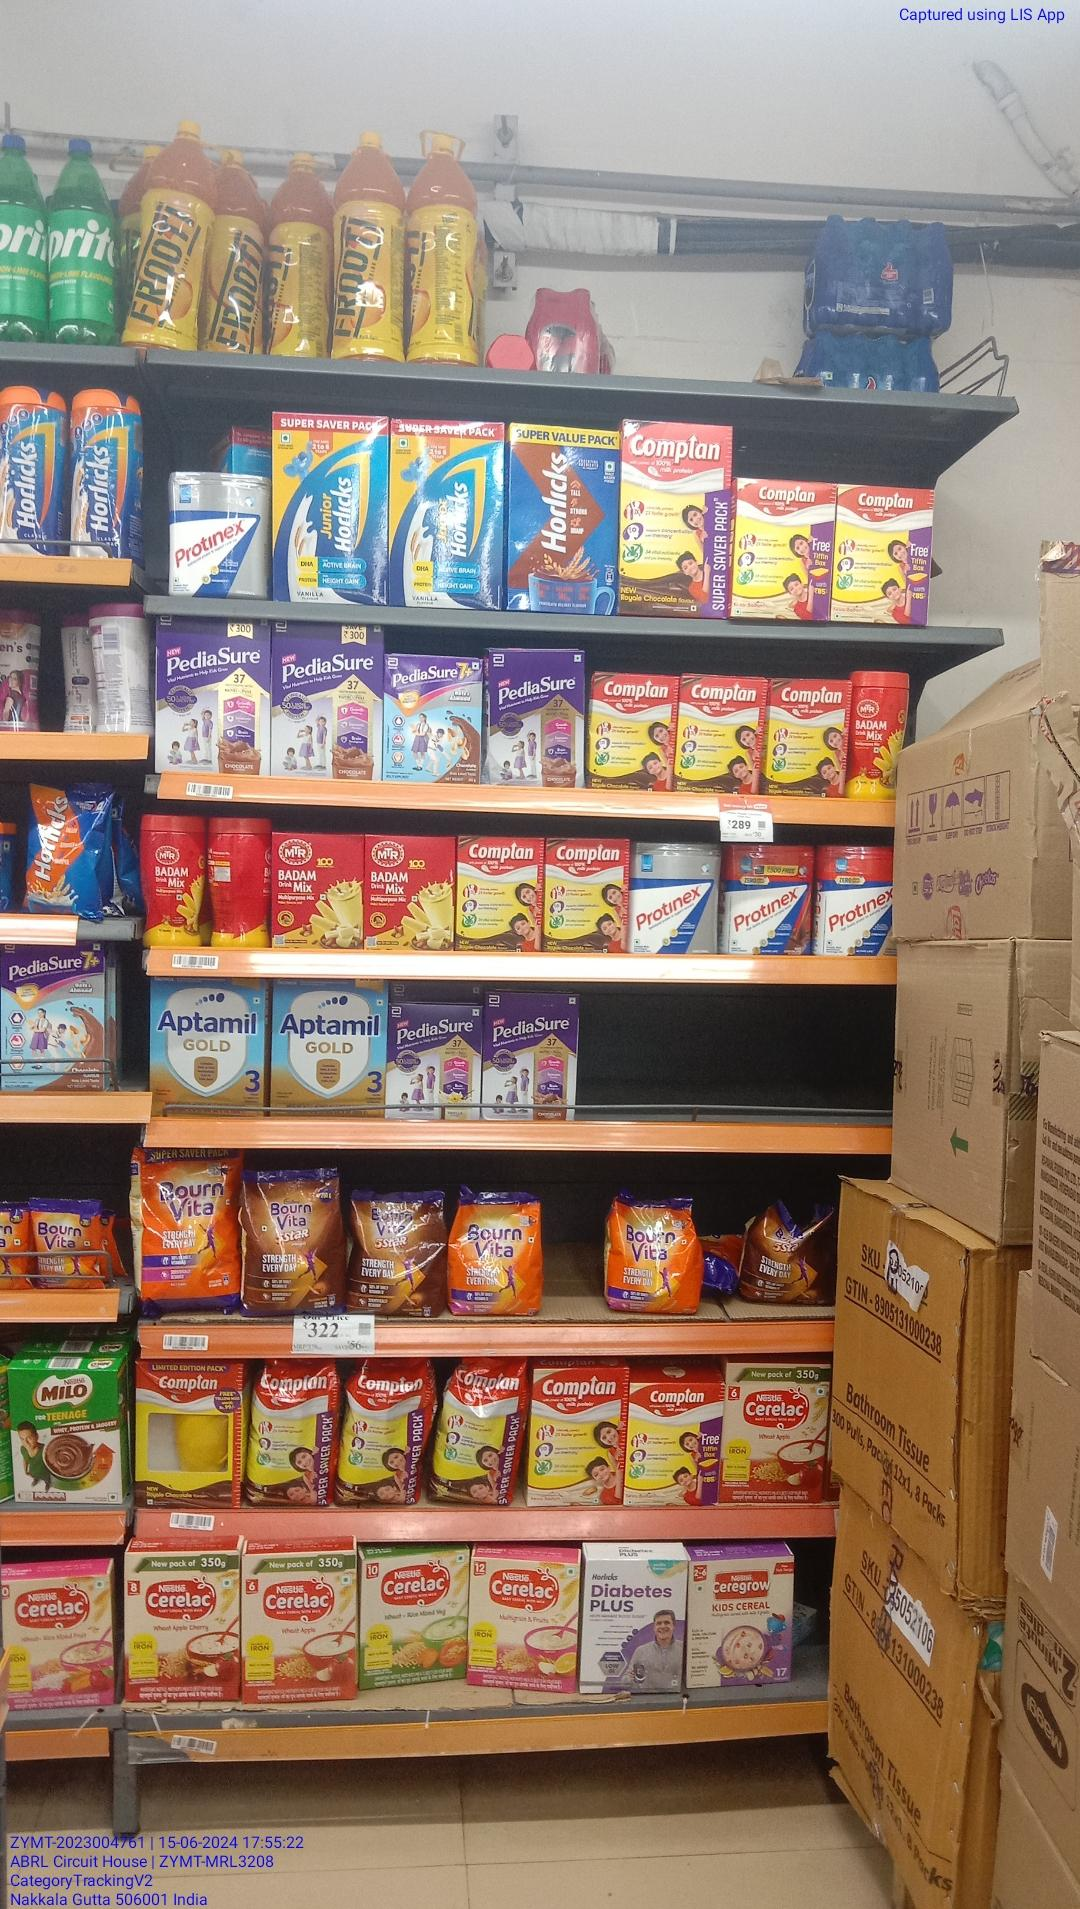BOURN_VITA_1_KG_POUCH: (144, 1147, 237, 1314)
BOURN_VITA_500_G_POUCH: (612, 1196, 699, 1316), (456, 1192, 541, 1310)
BOURN_VITA_75_G_POUCH: (34, 1201, 100, 1290)
BOURN_VITA_FIVE_STAR_MAGIC_500_G_POUCH: (353, 1192, 448, 1319)
BOURN_VITA_FIVE_STAR_MAGIC_750_G_POUCH: (248, 1167, 343, 1316)
COMPLAN_RC_POUCH_700_GMS_12: (435, 1356, 519, 1509), (249, 1360, 334, 1510), (342, 1361, 426, 1505)
HORLICK_CHOCOLATE_1_KG_PACK: (509, 425, 615, 612)
PEDIASURE_7_PLUS_CHOCOLATE_400_G_PACK: (1, 943, 105, 1090), (384, 656, 486, 784)
PEDIASURE_CHOCOLATE_500_G_PACK: (488, 646, 585, 785), (486, 993, 575, 1122)
PROTINEX_CHOCOLATE_400_G_JAR: (726, 840, 811, 954)
PROTINEX_ORIGINAL_400_G_JAR: (169, 469, 267, 599), (630, 839, 718, 957)
PROTINEX_VANILLA_400_G_JAR: (819, 844, 895, 954)
